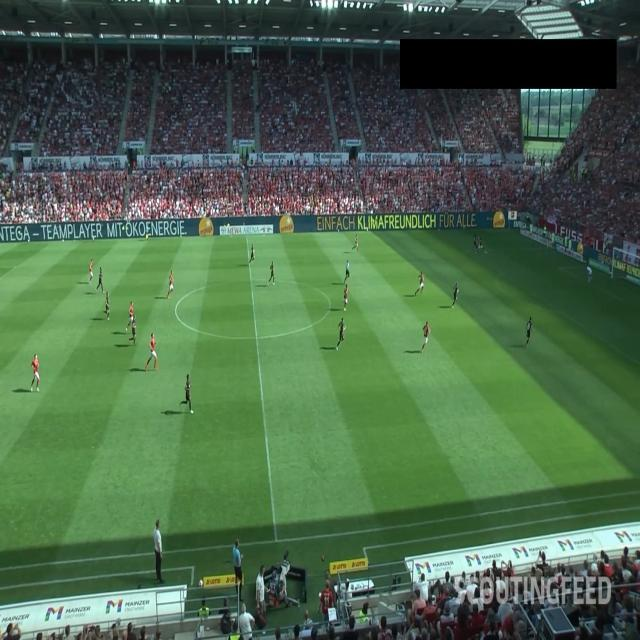ball: (485, 250, 488, 254)
